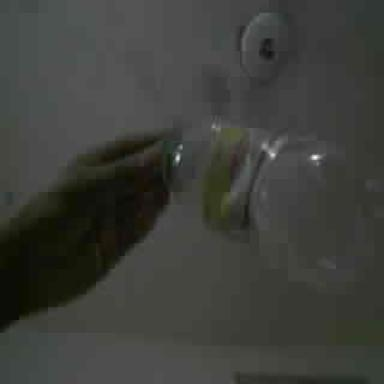bottle: (164, 120, 372, 282)
